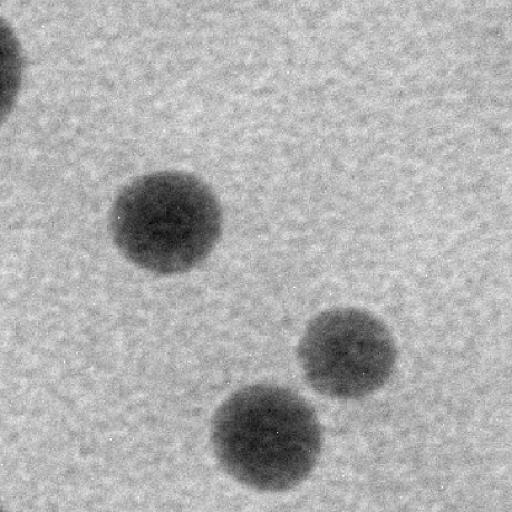Nanoparticles: (106, 162, 228, 282), (208, 380, 326, 496), (294, 298, 404, 404), (0, 14, 25, 129)
